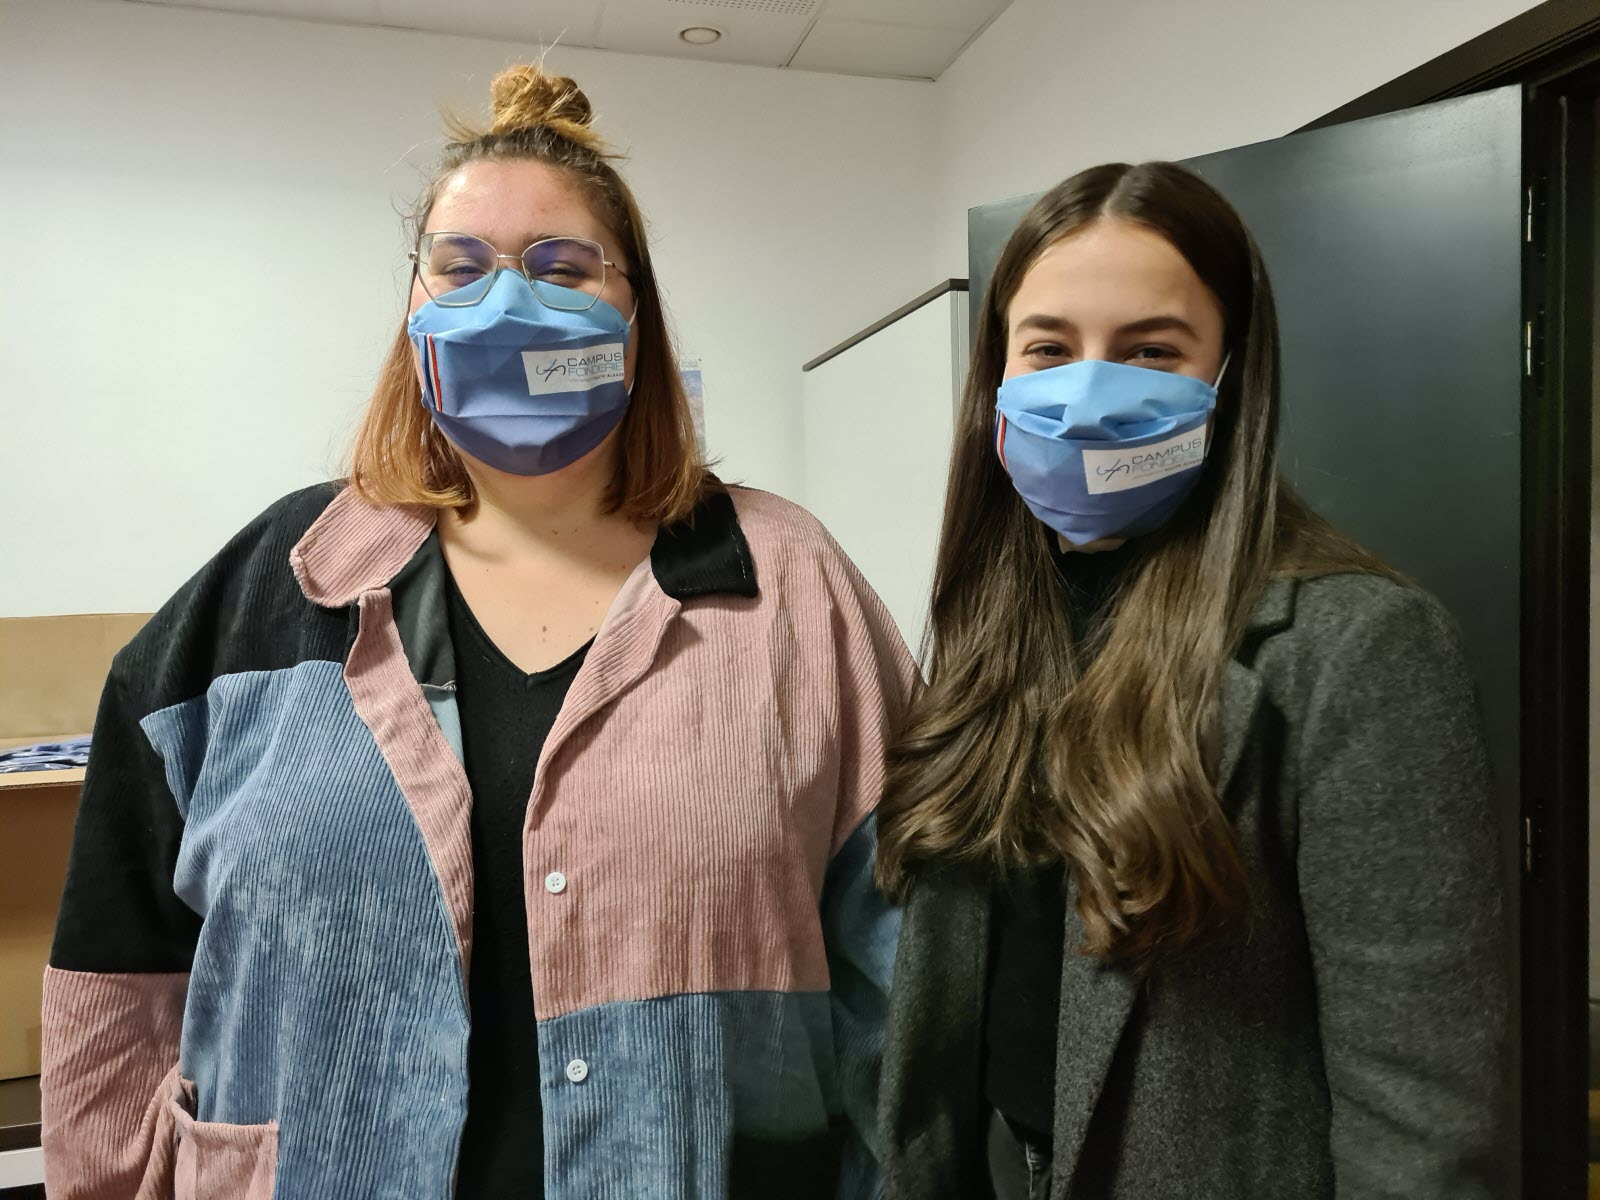with_mask: (1006, 238, 1214, 519), (422, 178, 619, 459)
